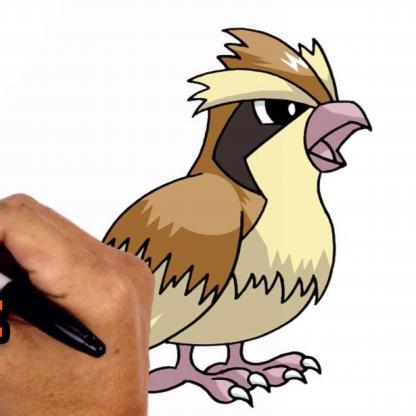Pidgey: (98, 13, 358, 401)
